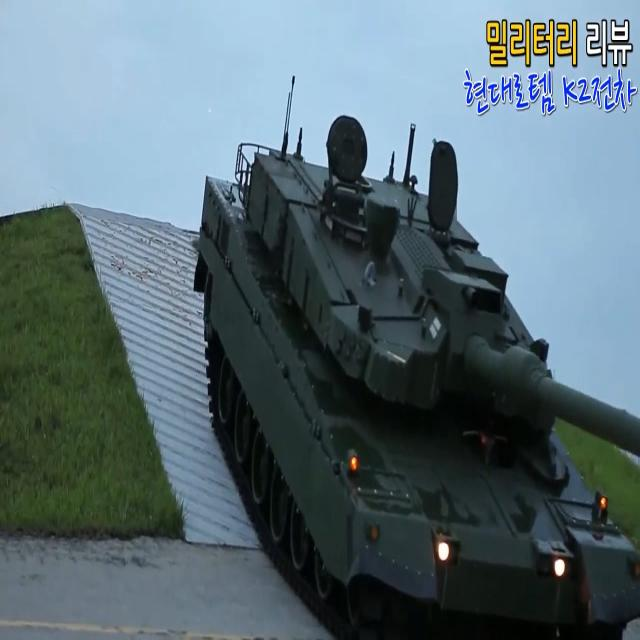korea tank: (189, 65, 640, 640)
